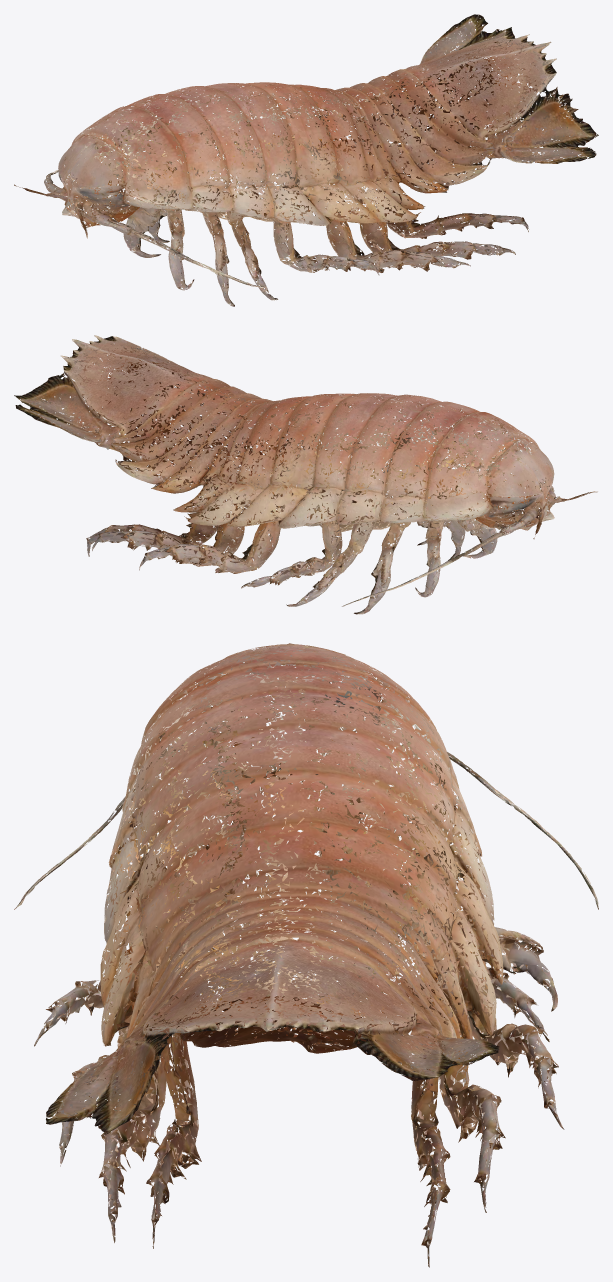
The model's file is isopod.glb.
3 views of the same model, one above another, from view 1: azimuth 30°, elevation 25°; view 2: azimuth 150°, elevation 25°; view 3: azimuth 270°, elevation 25° (orthographic). The views are drawn at different scales.
Visible parts, largest first — view 1: Object_6; view 2: Object_6; view 3: Object_6.
Boxes of the visible parts, bbox=[...] form: Object_6: bbox=[14, 14, 598, 306]; Object_6: bbox=[14, 335, 597, 614]; Object_6: bbox=[14, 643, 598, 1267].
Size of the model in its own units: 0.1273 by 0.0456 by 0.073.
1 material, 1 textured.
